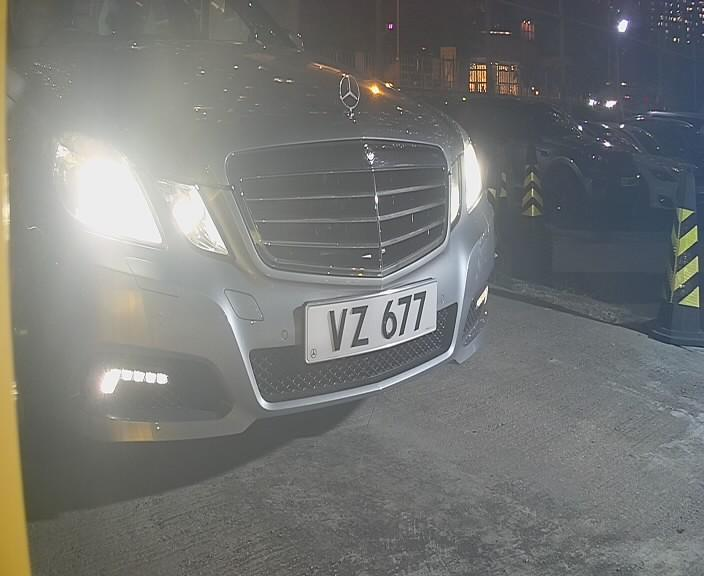privatecar: (23, 13, 507, 469)
